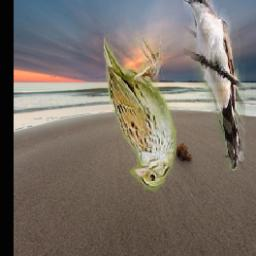Cuckoo: (183, 0, 245, 170)
Sparrow: (103, 31, 176, 191)
